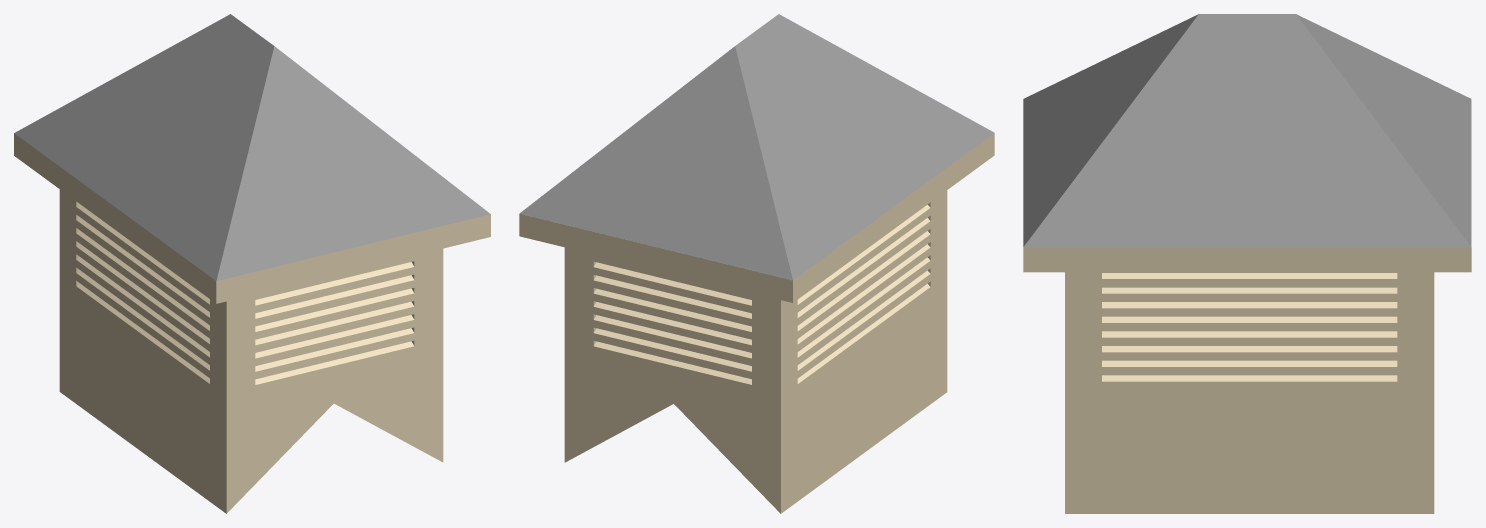
The model's file is cupola.gltf.
The picture shows the model from 3 angles, left to right: view 1: azimuth 30°, elevation 25°; view 2: azimuth 150°, elevation 25°; view 3: azimuth 270°, elevation 25°; orthographic projection. The views are drawn at different scales.
Parts seen in each view (by area): view 1: Other; view 2: Other; view 3: Other.
Boxes of the visible parts, box(x1,y1,x2,y2) form: Other: box(14, 14, 490, 513); Other: box(519, 14, 994, 513); Other: box(1023, 14, 1471, 513).
Bounding box in the file's own units: 0.9652 × 1.34 × 1.23.
